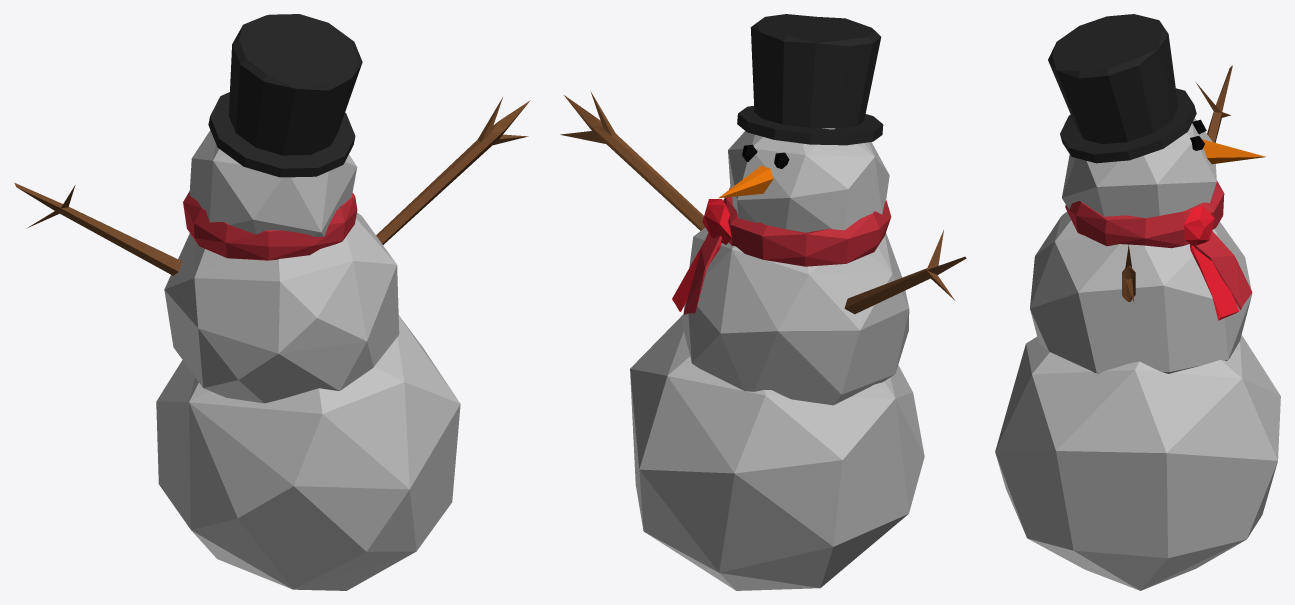
File: christmas-snowman.glb
3 renders of one model, left to right at view 1: azimuth 30°, elevation 25°; view 2: azimuth 150°, elevation 25°; view 3: azimuth 270°, elevation 25°, orthographic. The views are drawn at different scales.
Visible parts, largest first — view 1: Sphere.003, Sphere.004, Cylinder.004, Sphere.005, Torus.001, Cylinder.003, Cylinder.002; view 2: Sphere.003, Sphere.004, Cylinder.004, Sphere.005, Torus.001, Cylinder.003, Cylinder.002, Cube.008, Icosphere.001, Cone.008, Cube.007; view 3: Sphere.003, Sphere.004, Cylinder.004, Sphere.005, Torus.001, Cube.008, Cube.007, Icosphere.001, Cone.008, Cylinder.002, Cylinder.003.
Part boxes in pixels (box(x1,y1,x2,y2)): Sphere.003: box(156, 315, 460, 590); Sphere.004: box(164, 212, 399, 403); Cylinder.004: box(208, 14, 362, 177); Sphere.005: box(189, 130, 357, 236); Torus.001: box(183, 191, 357, 260); Cylinder.003: box(376, 97, 530, 244); Cylinder.002: box(14, 183, 181, 275); Sphere.003: box(630, 314, 924, 590); Sphere.004: box(682, 227, 909, 405); Cylinder.004: box(737, 14, 883, 145); Sphere.005: box(728, 128, 889, 232); Torus.001: box(723, 187, 891, 266); Cylinder.003: box(560, 91, 705, 230); Cylinder.002: box(844, 230, 966, 314); Cube.008: box(683, 233, 722, 314); Icosphere.001: box(702, 199, 731, 244); Cone.008: box(718, 165, 773, 198); Cube.007: box(672, 241, 721, 311); Sphere.003: box(995, 335, 1280, 590); Sphere.004: box(1030, 211, 1252, 373); Cylinder.004: box(1048, 14, 1196, 163); Sphere.005: box(1062, 118, 1216, 217); Torus.001: box(1065, 180, 1224, 248); Cube.008: box(1194, 231, 1252, 309); Cube.007: box(1189, 244, 1238, 320); Icosphere.001: box(1184, 206, 1214, 245); Cone.008: box(1202, 139, 1265, 164); Cylinder.002: box(1196, 65, 1232, 142); Cylinder.003: box(1122, 245, 1135, 303).
Bounding box in the file's own units: 1.88 × 2.2 × 1.07.
